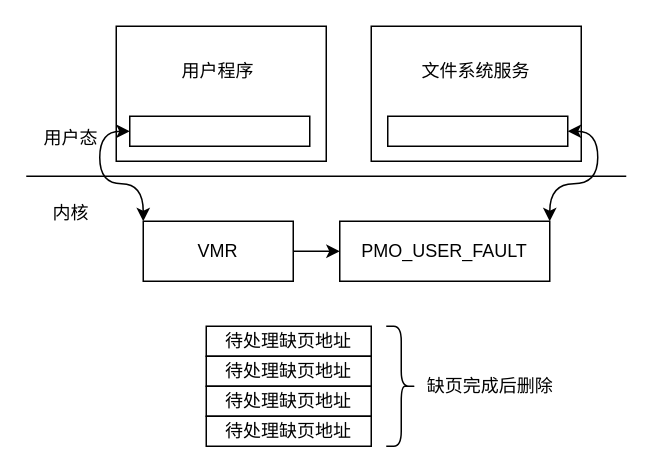
Image size: 654x473. Some labels were removed from this diagram. Each missing label, with the centre of its shape:
"缺页处理函数" belongs at pixel 477 130.
"虚拟地址段" belongs at pixel 219 130.
